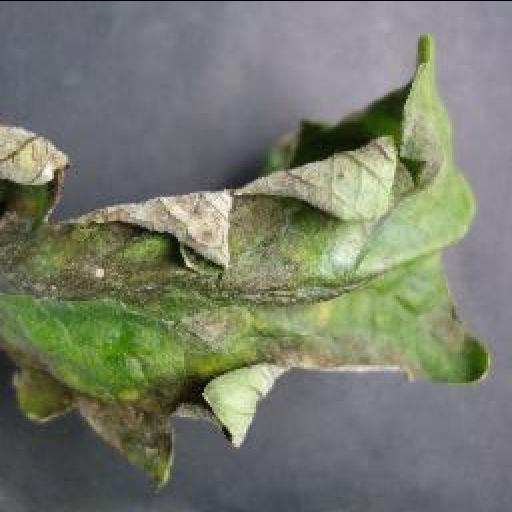disease_tomato: (0, 29, 494, 491)
